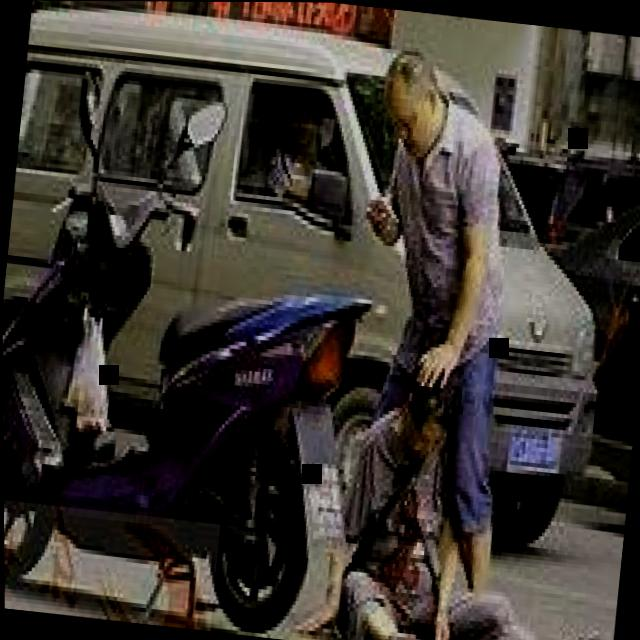Fall-Detected: (291, 338, 640, 640)
